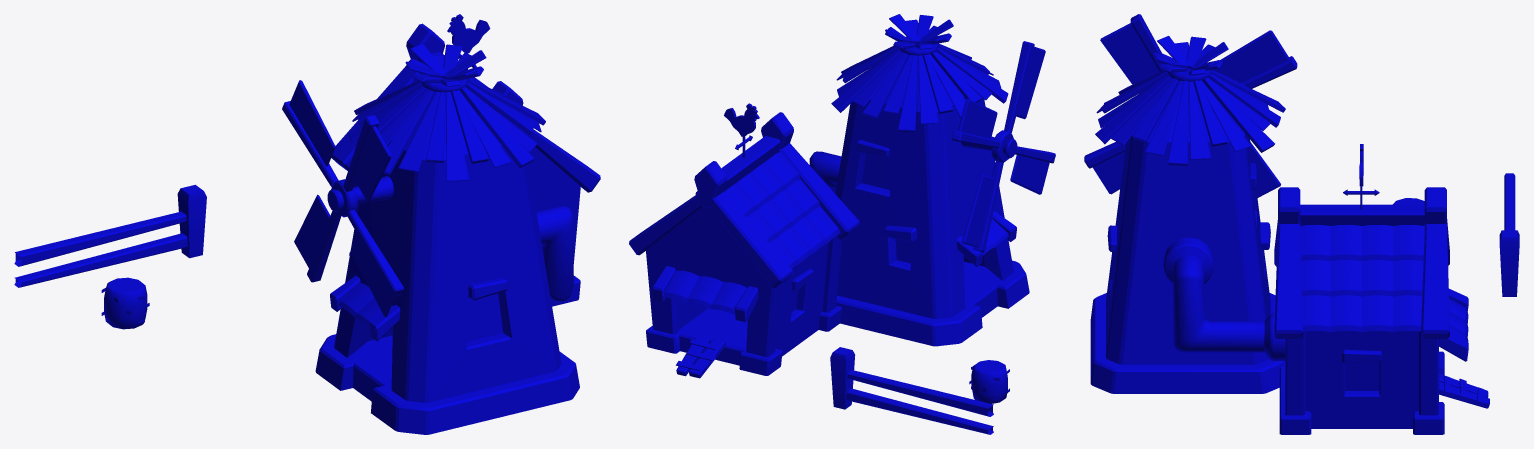
The model's file is Farm 1.FBX.
The picture shows the model from 3 angles, left to right: view 1: azimuth 30°, elevation 25°; view 2: azimuth 150°, elevation 25°; view 3: azimuth 270°, elevation 25°; orthographic projection. The views are drawn at different scales.
Visible parts, largest first — view 1: Object (×16), Line001, Object007, Object009, Object008, Group001; view 2: Object (×25), Object008, Object009, Object007, Group001, Line001; view 3: Object (×17), Line001, Object009, Object007, Object008, Object003.
Part boxes in pixels (x1=…): Object (×16): x1=14, y1=14, x2=600, y2=434; Line001: x1=536, y1=205, x2=573, y2=301; Object007: x1=347, y1=209, x2=403, y2=317; Object009: x1=282, y1=80, x2=338, y2=187; Object008: x1=294, y1=194, x2=341, y2=282; Group001: x1=101, y1=277, x2=149, y2=329; Object (×25): x1=629, y1=14, x2=1045, y2=434; Object008: x1=962, y1=161, x2=1003, y2=252; Object009: x1=952, y1=99, x2=1000, y2=148; Object007: x1=1010, y1=146, x2=1055, y2=194; Group001: x1=969, y1=360, x2=1009, y2=403; Line001: x1=809, y1=151, x2=841, y2=193; Object (×17): x1=1090, y1=14, x2=1519, y2=434; Line001: x1=1163, y1=237, x2=1285, y2=360; Object009: x1=1213, y1=30, x2=1297, y2=88; Object007: x1=1084, y1=142, x2=1125, y2=194; Object008: x1=1250, y1=142, x2=1280, y2=197; Object003: x1=1342, y1=349, x2=1381, y2=363.
Bounding box in the file's own units: 627 × 421 × 549.
